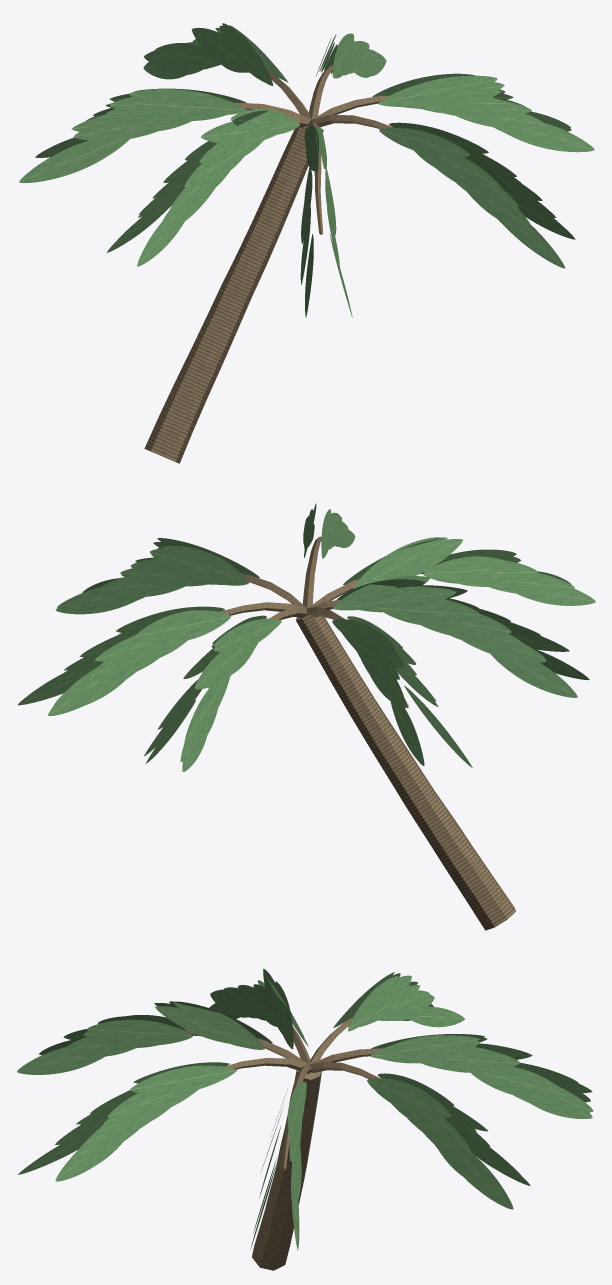
Rendered from 야자수_02.fbx.
The picture shows the model from 3 angles, top to bottom: view 1: azimuth 30°, elevation 25°; view 2: azimuth 150°, elevation 25°; view 3: azimuth 270°, elevation 25°; orthographic projection. The views are drawn at different scales.
Parts seen in each view (by area): view 1: 야자수_02; view 2: 야자수_02; view 3: 야자수_02.
Boxes of the visible parts, box(x1,y1,x2,y2) form: 야자수_02: box(19, 23, 594, 463); 야자수_02: box(18, 503, 595, 930); 야자수_02: box(17, 969, 593, 1270).
Bounding box in the file's own units: 15777 × 10260 × 16584.
Materials: 2 (2 with a texture image).
